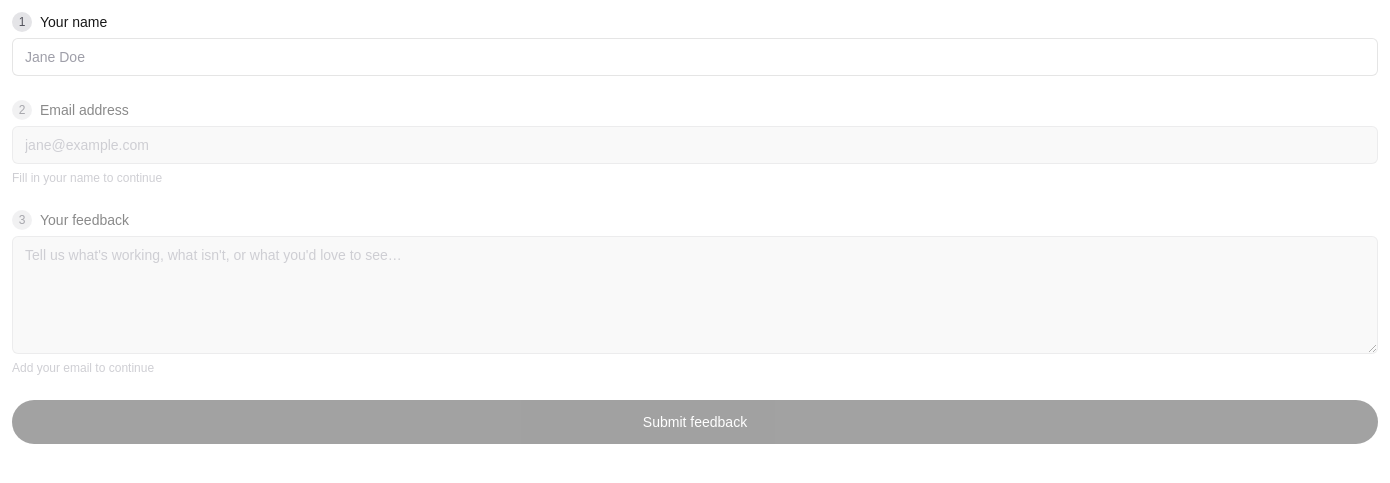
Test: FeedbackForm › shows a validation error after blurring an invalid field
The image size is (1390, 483).
In the field labelled "1 Your name": (695, 57) [12,38,1378,76], type "J"
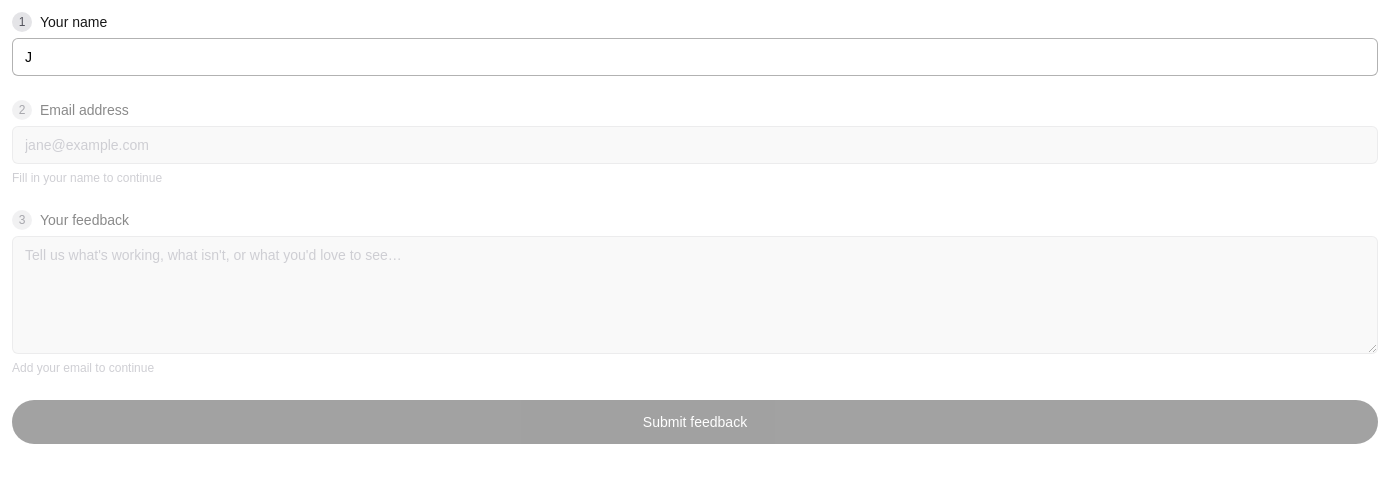
Press Tab
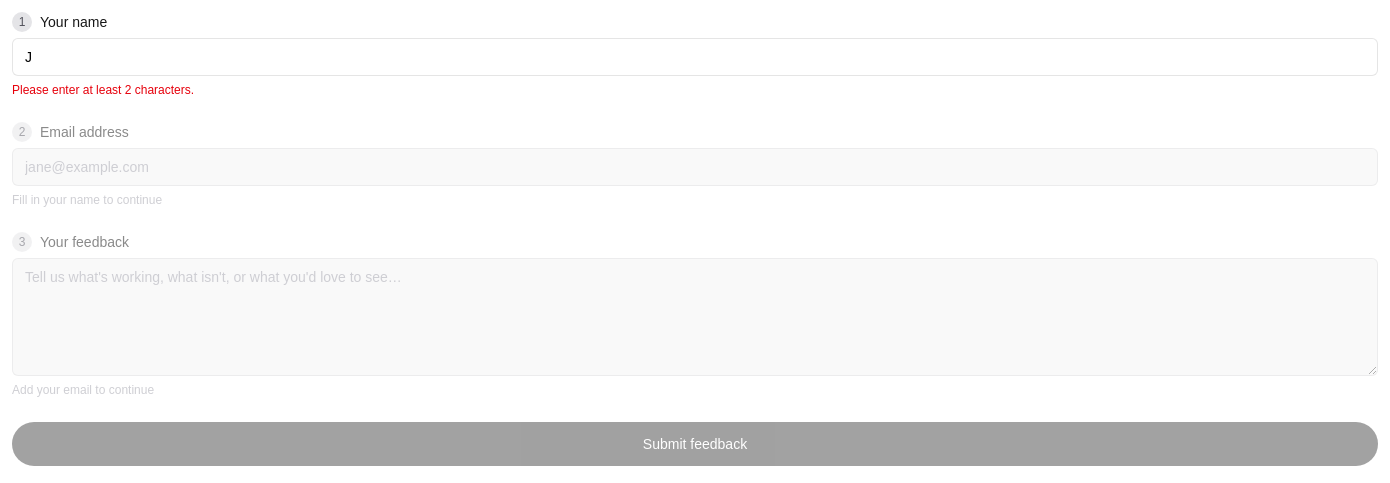
Check: the text "Please enter at least 2 characters." is shown, box [12,83,194,97]
